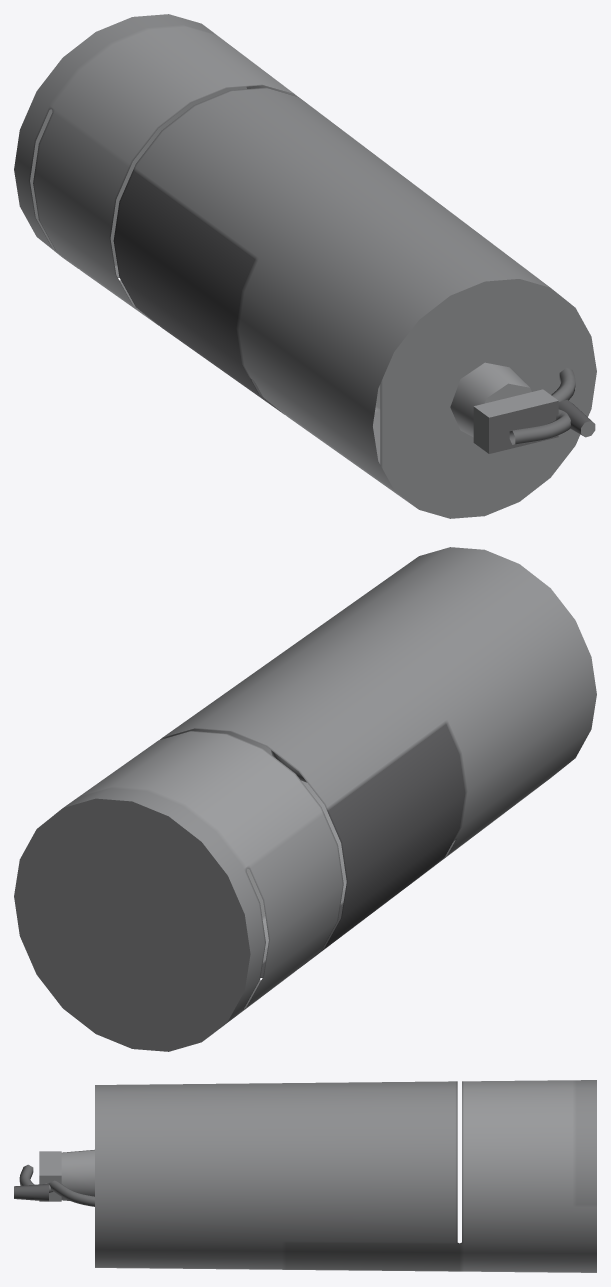
3 views of the same model, one above another, from view 1: azimuth 30°, elevation 25°; view 2: azimuth 150°, elevation 25°; view 3: azimuth 270°, elevation 25° (orthographic). The views are drawn at different scales.
Bounding box in the file's own units: 0.2601 × 0.2601 × 0.7799.
